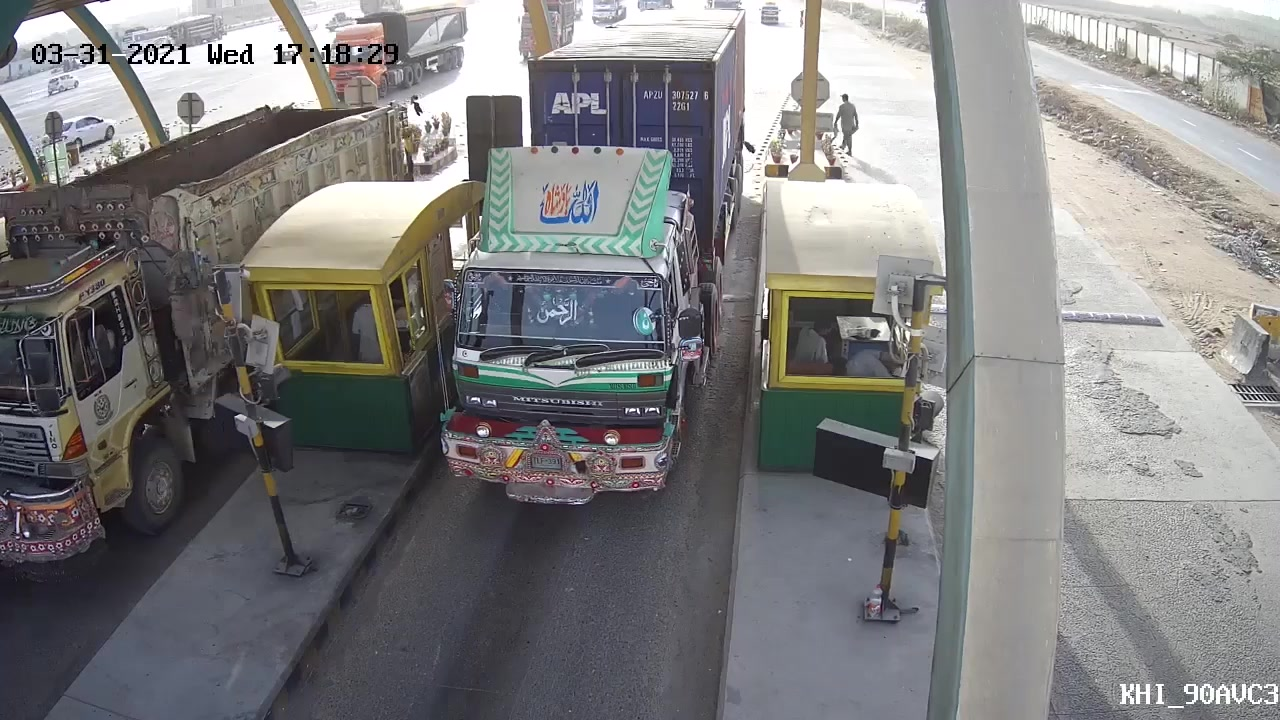F6: (425, 1, 754, 517)
